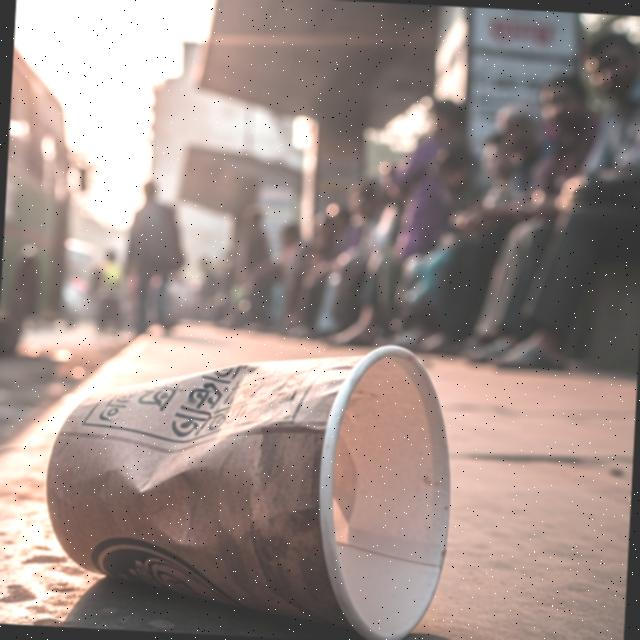paper: (36, 327, 461, 640)
